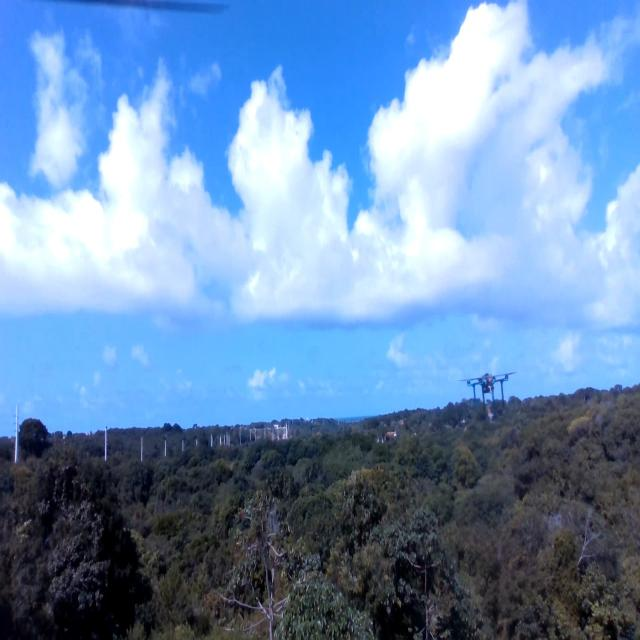-uav-: (465, 363, 520, 428)
